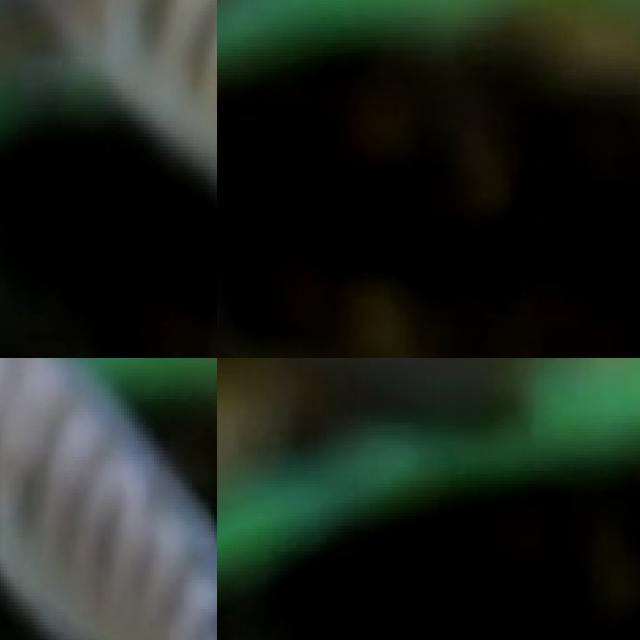fish: (0, 0, 217, 358), (0, 358, 217, 640)
